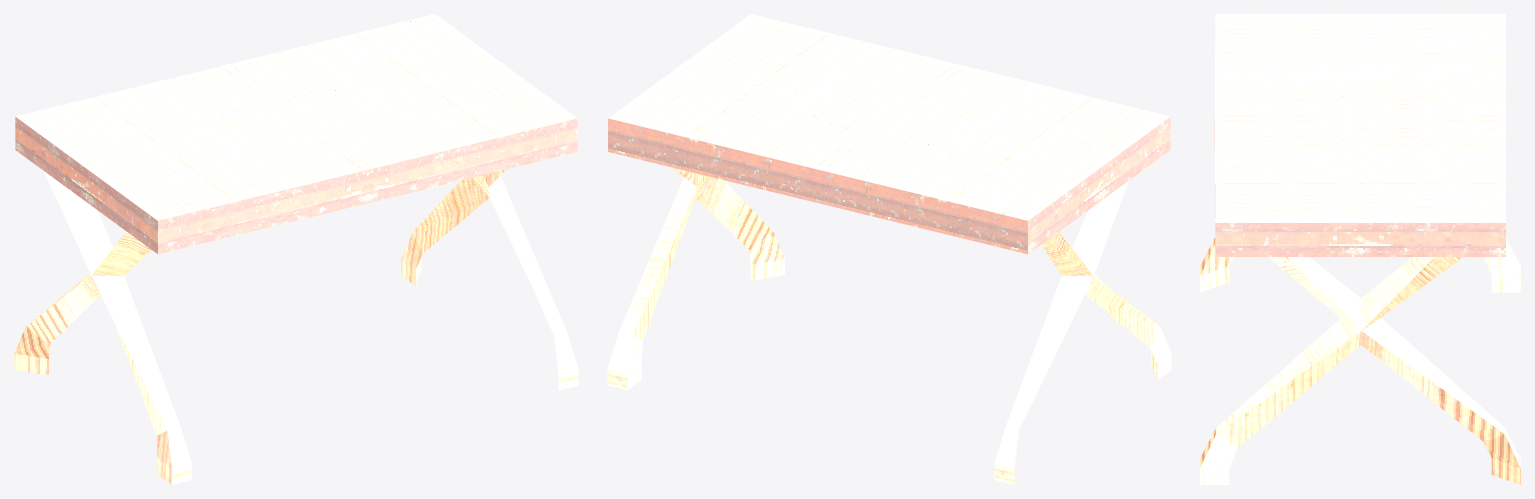
File: Table.glb
The picture shows the model from 3 angles, left to right: view 1: azimuth 30°, elevation 25°; view 2: azimuth 150°, elevation 25°; view 3: azimuth 270°, elevation 25°; orthographic projection.
Visible parts, largest first — view 1: Table; view 2: Table; view 3: Table.
Boxes of the visible parts, left/top/right/bottom form: Table: left=14, top=14, right=578, bottom=484; Table: left=607, top=14, right=1171, bottom=484; Table: left=1200, top=14, right=1520, bottom=484.
Bounding box in the file's own units: 1.57 × 0.9277 × 1.02.
